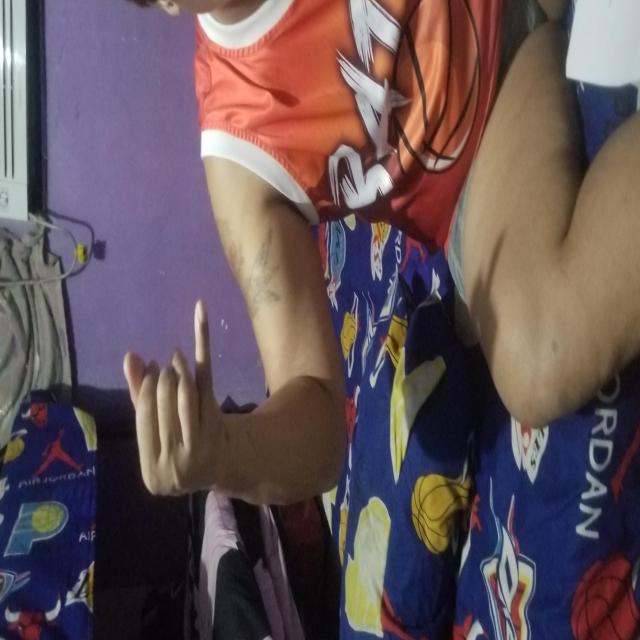J: (143, 122, 344, 223)
